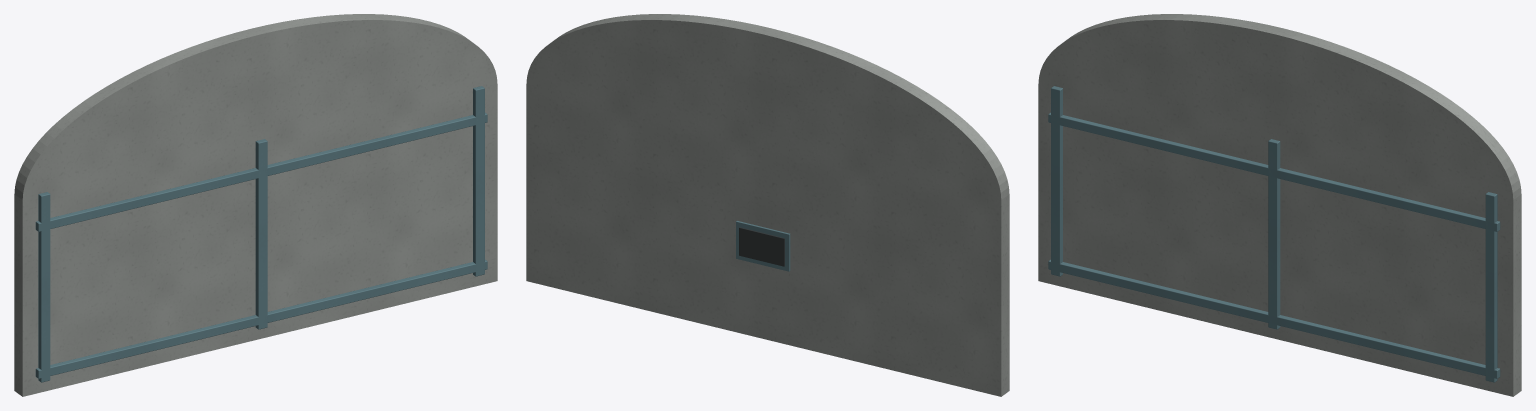
Rendered from gorgehold-survivor-gallery-and-operations-gallery-encl-5ea7ce2d__32850.glb.
3 renders of one model, left to right at view 1: azimuth 30°, elevation 25°; view 2: azimuth 150°, elevation 25°; view 3: azimuth 330°, elevation 25°, orthographic.
Parts seen in each view (by area): view 1: gallery-enclosed-end-wall; view 2: gallery-enclosed-end-wall; view 3: gallery-enclosed-end-wall.
Part boxes in pixels (x1,y1,x2,y2): gallery-enclosed-end-wall: (14, 14, 497, 396); gallery-enclosed-end-wall: (526, 14, 1009, 396); gallery-enclosed-end-wall: (1038, 14, 1521, 396).
Bounding box in the file's own units: 7.98 × 4.89 × 0.394.
3 materials, 2 textured.
